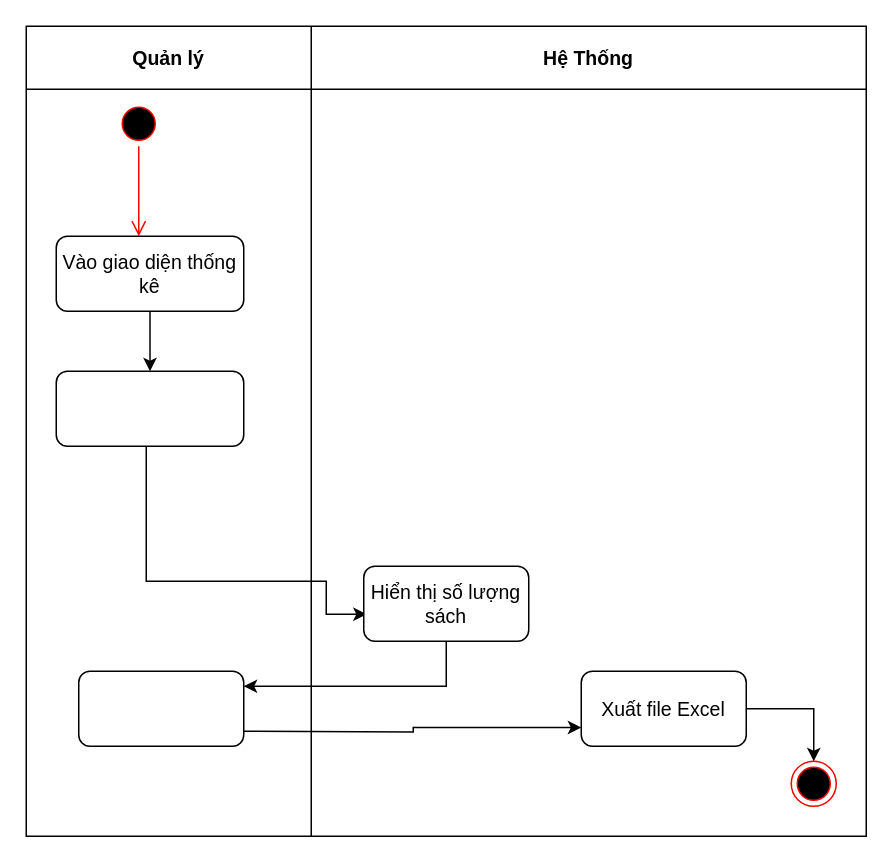
Image size: 893x863. Some labels were removed from this diagram. Here are the shapes that lost their labels. From the top down, the box of each, then its label:
(55, 370, 244, 446): Chọn số lượng sách muốn thống kê
(77, 670, 244, 746): Nhấn xuất file Excel
